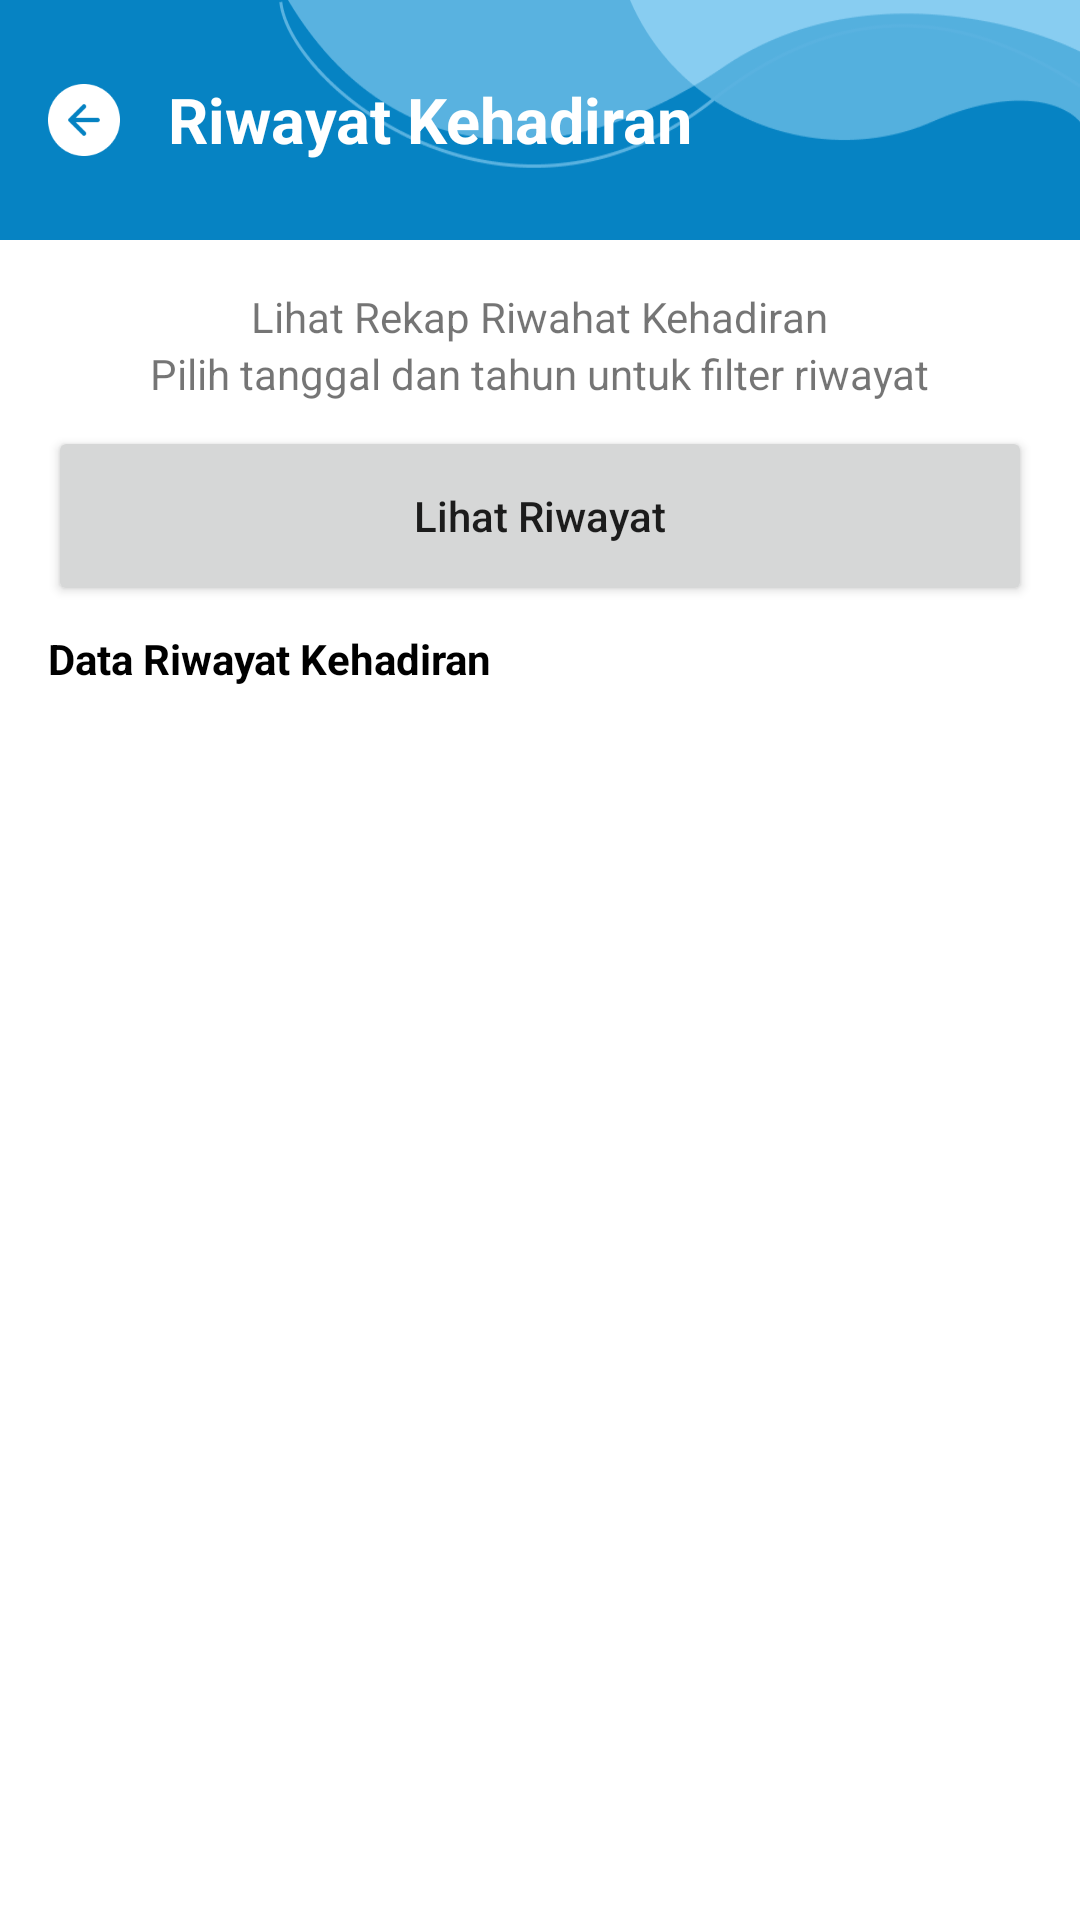

Screen size 1080*1920. Icon name, then its box in pixels as [left=x1, top=y1, right=x2, bottom=y2]:
back: [left=48, top=84, right=120, bottom=156]
